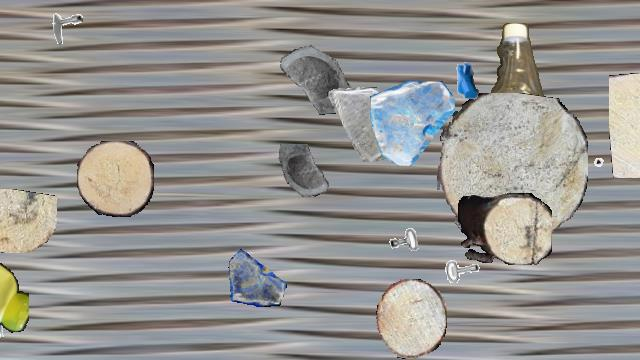glass: (370, 81, 454, 165), (270, 32, 352, 114), (326, 87, 400, 161), (275, 144, 337, 206), (228, 248, 286, 306)
metal: (375, 195, 435, 255), (438, 51, 494, 107), (442, 255, 488, 301), (41, 2, 83, 44), (590, 156, 630, 196), (0, 301, 27, 345)
plastic: (470, 23, 552, 221), (0, 221, 29, 337)
wood: (437, 93, 587, 245), (458, 193, 552, 265), (77, 141, 153, 217), (376, 279, 446, 359), (0, 189, 57, 253), (609, 72, 640, 178)
